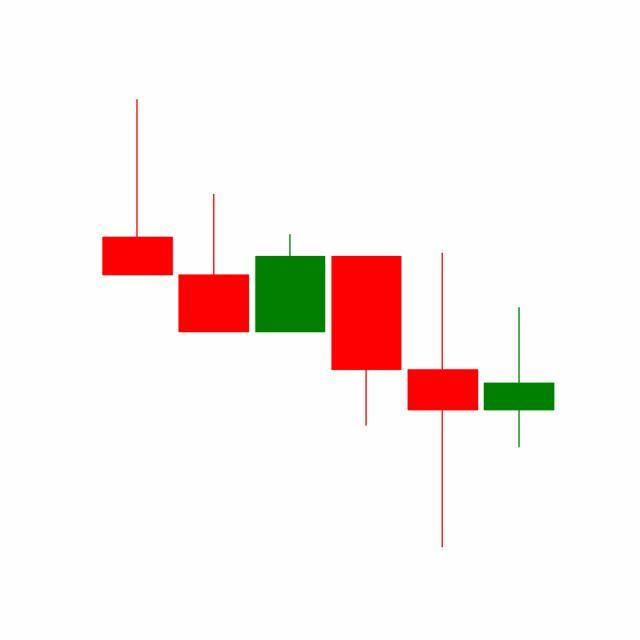Spinning Top: (404, 250, 482, 551)
